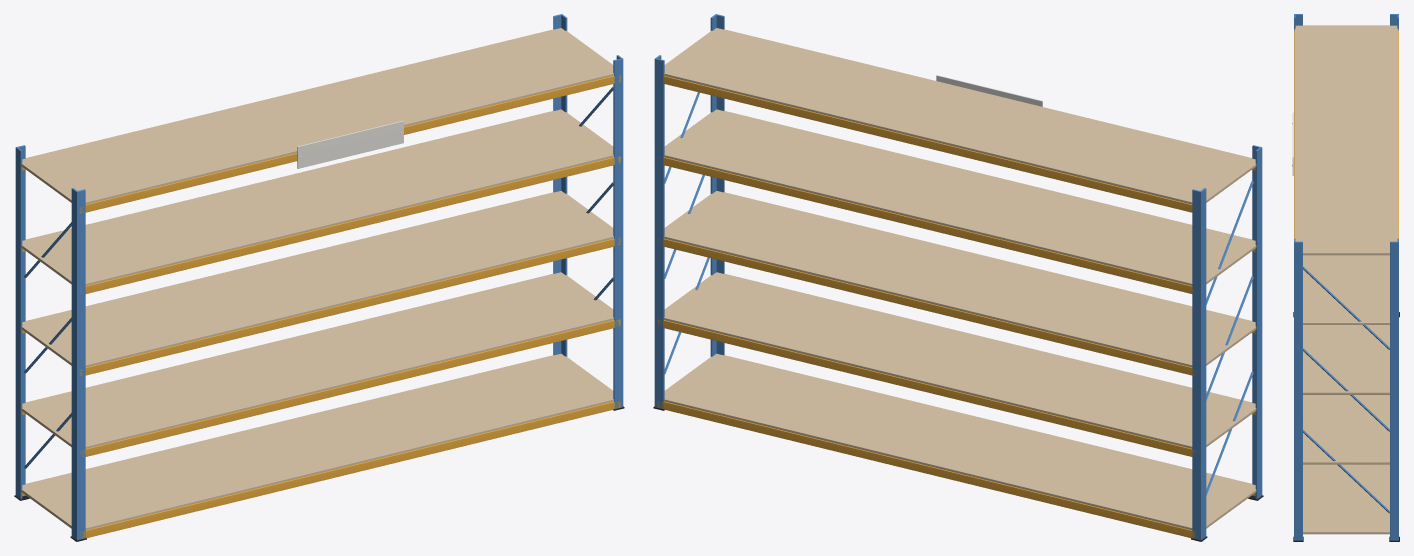
File: shelf_delivery.glb
3 renders of one model, left to right at view 1: azimuth 30°, elevation 25°; view 2: azimuth 150°, elevation 25°; view 3: azimuth 270°, elevation 25°, orthographic. The views are drawn at different scales.
Parts seen in each view (by area): view 1: SM_shelf_delivery; view 2: SM_shelf_delivery; view 3: SM_shelf_delivery.
Part boxes in pixels (x1=…): SM_shelf_delivery: x1=14, y1=14, x2=624, y2=541; SM_shelf_delivery: x1=653, y1=14, x2=1263, y2=541; SM_shelf_delivery: x1=1292, y1=14, x2=1399, y2=541.
Size of the model in its own units: 3.61 by 2.2 by 0.717.
